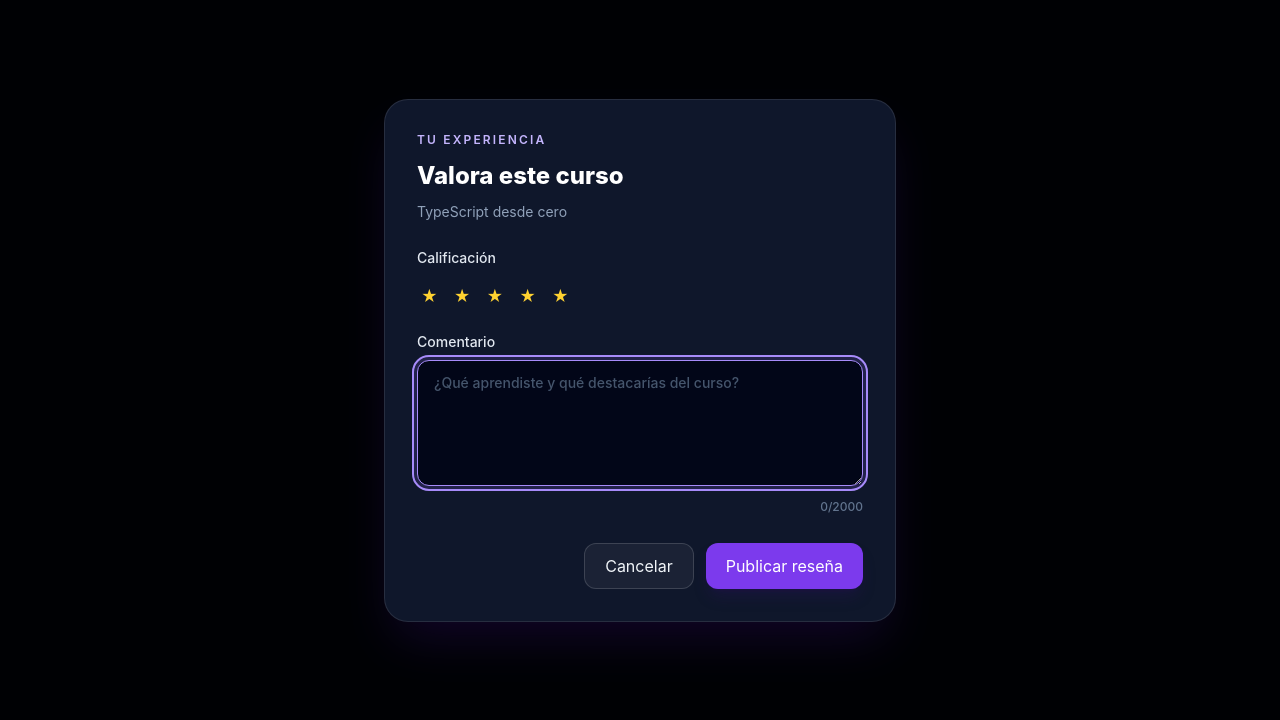
Test: ReviewDialog › rejects comments shorter than the backend minimum
This screenshot has width=1280, height=720.
Type "Muy bien" into the text box labelled "Comentario 0/2000" at (640, 422), box [417, 360, 863, 486]
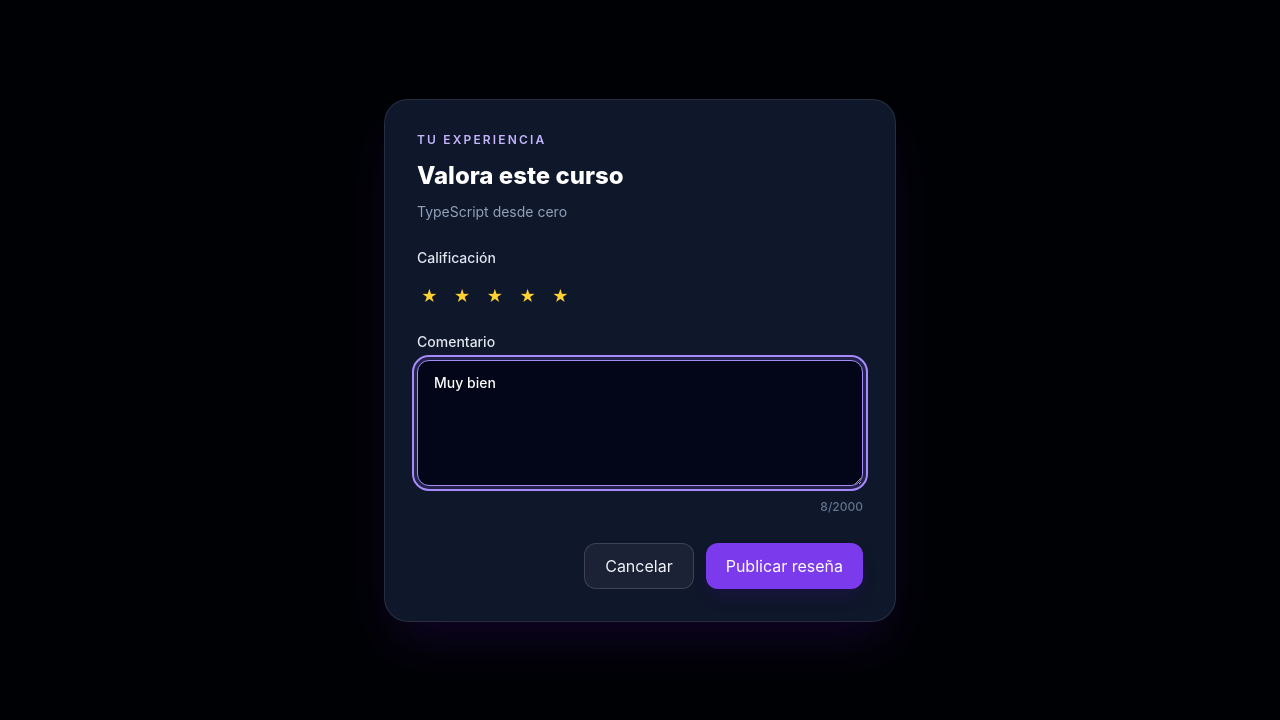
Click the button "Publicar reseña" at (784, 566), box [706, 542, 863, 588]
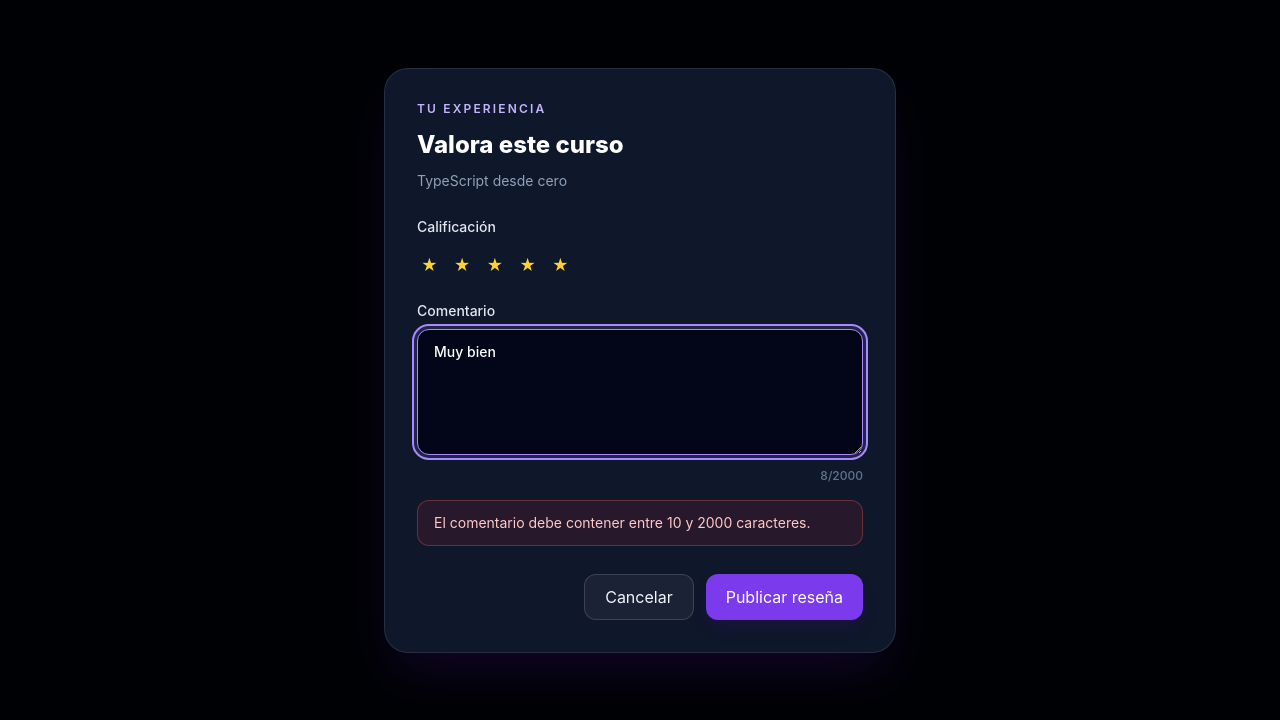
Now the message shows "entre 10 y 2000 caracteres", box [434, 514, 810, 530]
